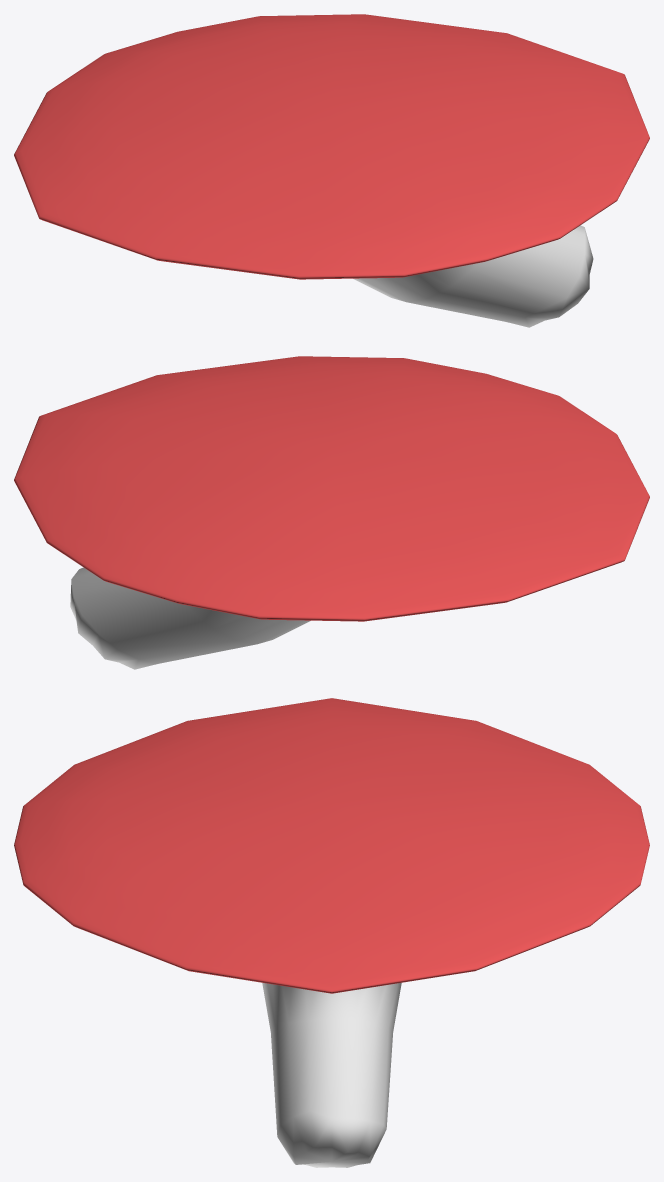
The model's file is Mushroom Table.fbx.
The picture shows the model from 3 angles, top to bottom: view 1: azimuth 30°, elevation 25°; view 2: azimuth 150°, elevation 25°; view 3: azimuth 270°, elevation 25°; orthographic projection. The views are drawn at different scales.
Parts seen in each view (by area): view 1: Mushroom; view 2: Mushroom; view 3: Mushroom.
Boxes of the visible parts, x1=… form: Mushroom: x1=14, y1=14, x2=649, y2=327; Mushroom: x1=14, y1=356, x2=649, y2=669; Mushroom: x1=14, y1=698, x2=649, y2=1167.
Size of the model in its own units: 3.79 by 1.62 by 3.47.
